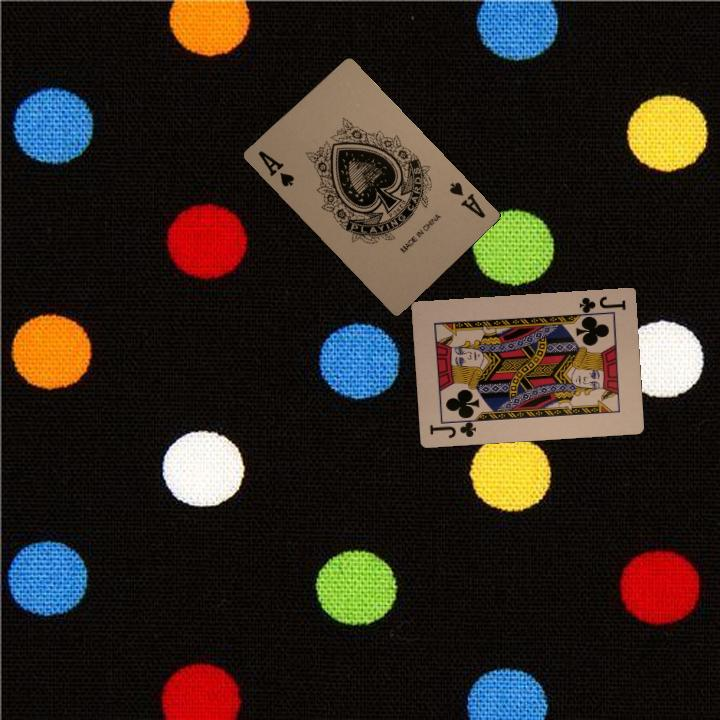As: (254, 146, 297, 189), (445, 178, 488, 221)
Jc: (574, 292, 628, 319), (425, 415, 480, 441)
